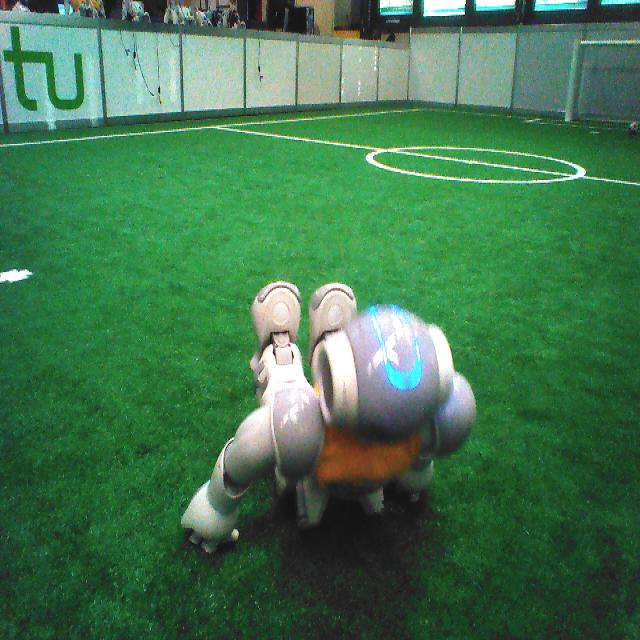ball: (629, 120, 640, 133)
goalpost: (563, 40, 581, 124)
